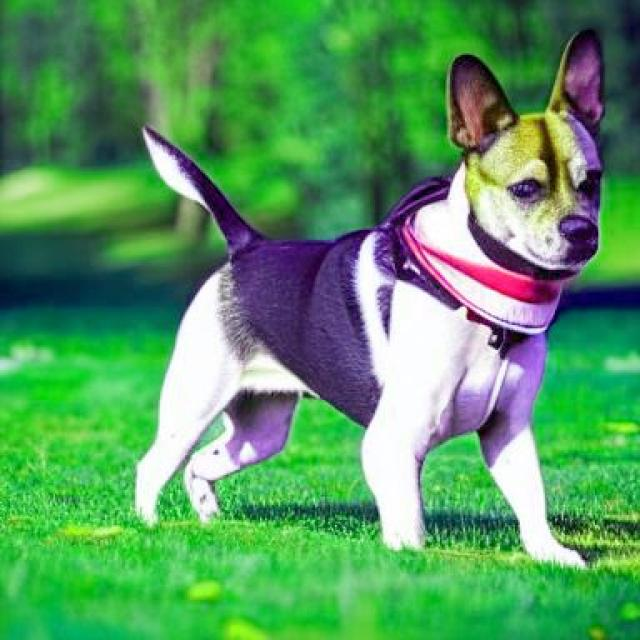Dog: (134, 25, 605, 571)
